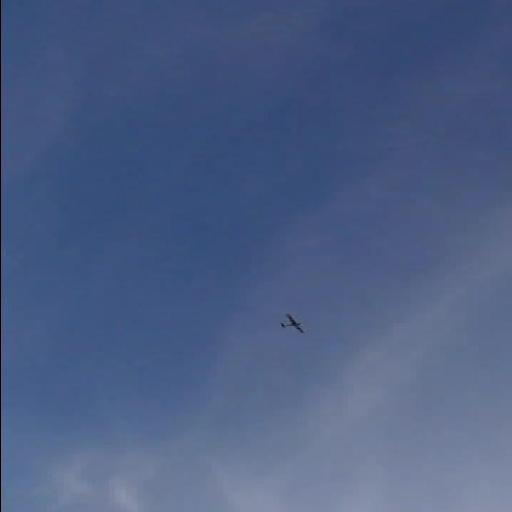uav: (270, 310, 311, 336)
